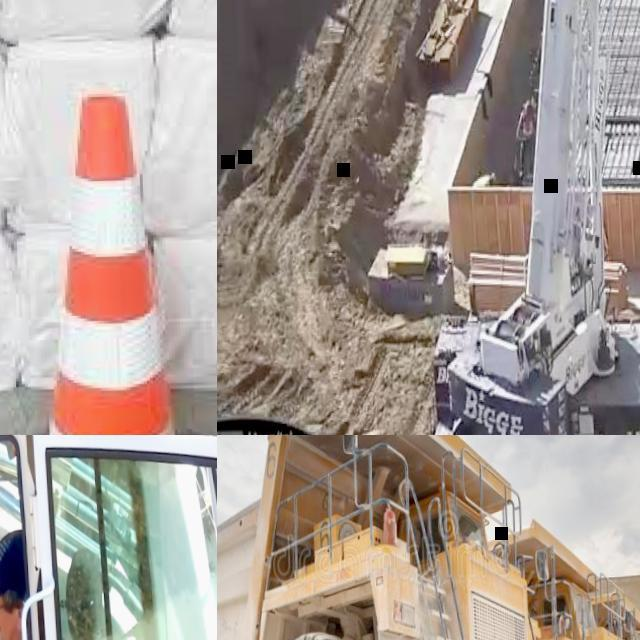helmet: (524, 98, 532, 110)
vest: (521, 111, 533, 135)
